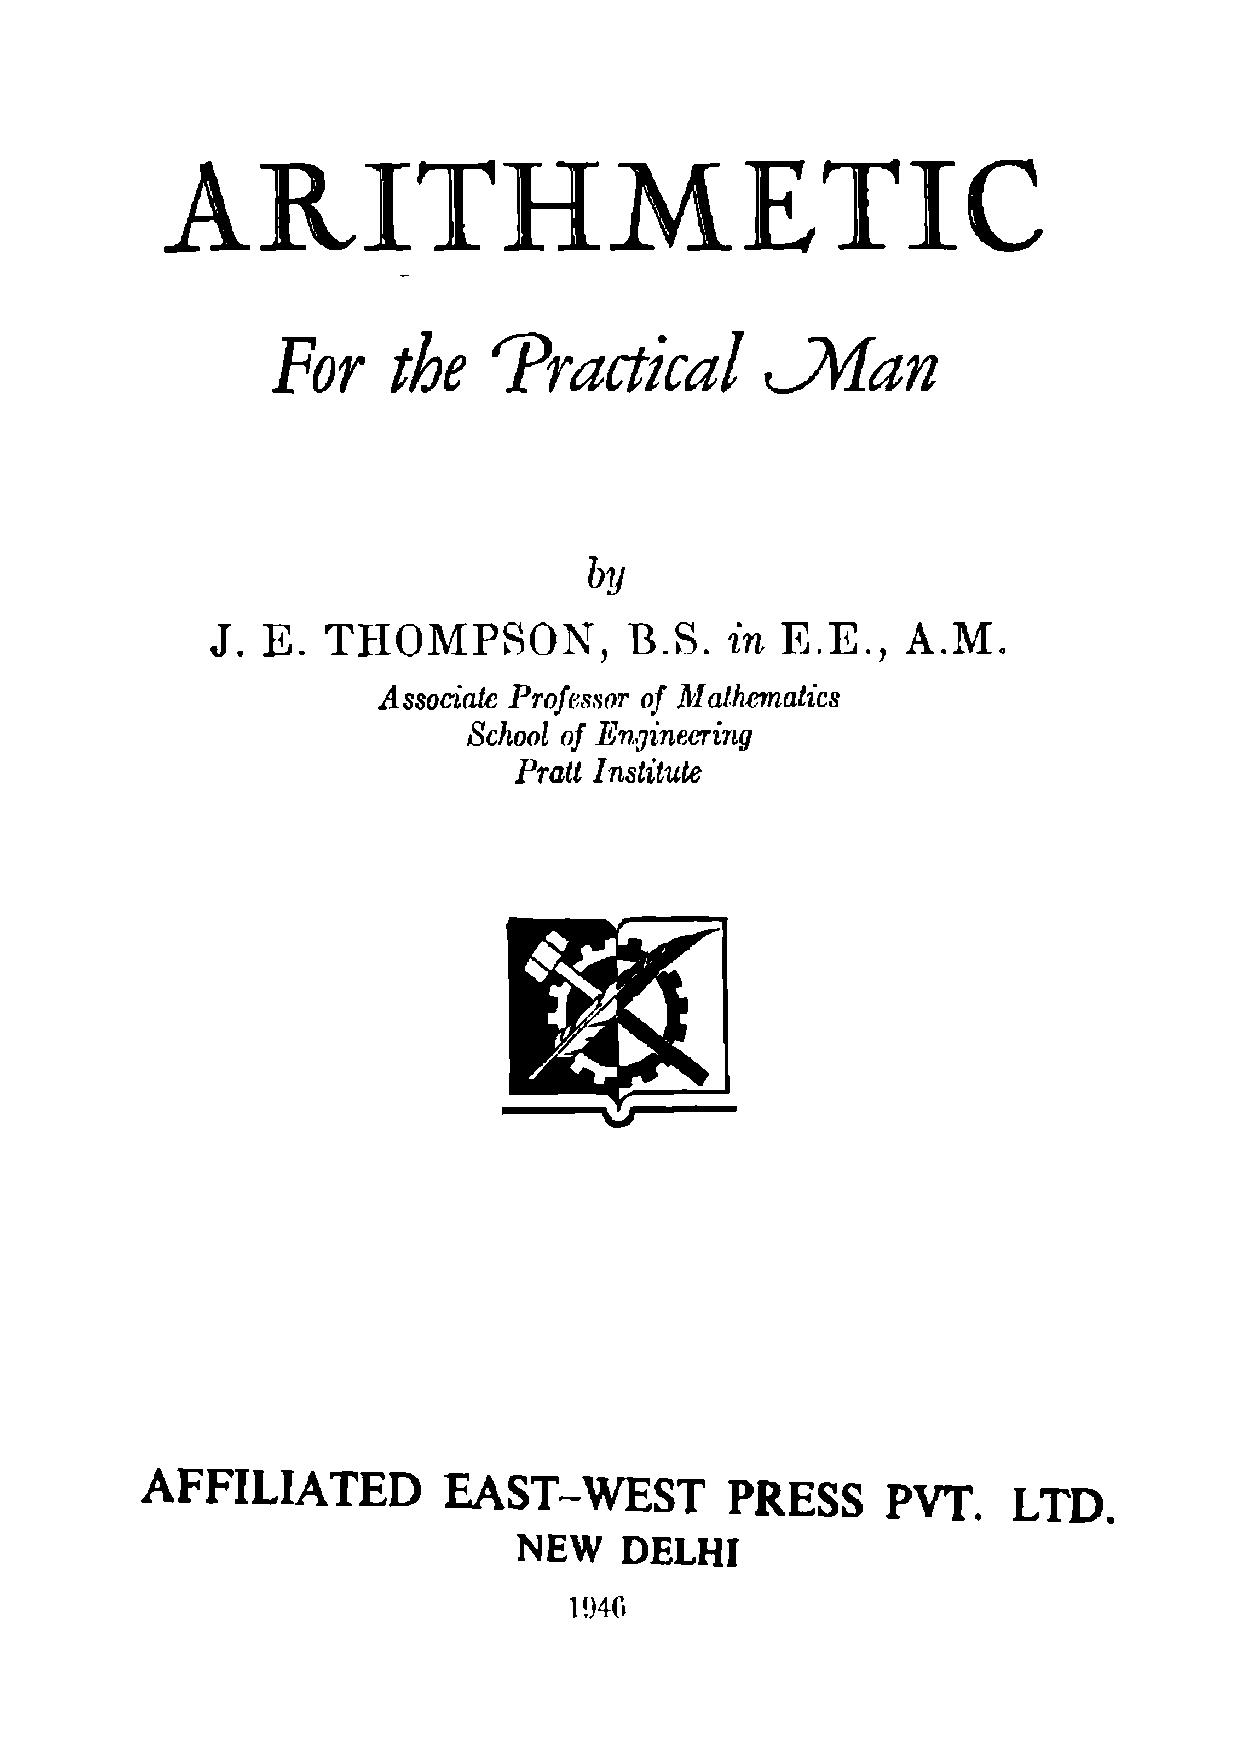author: (201, 554, 1005, 662)
title: (156, 156, 1051, 403)
